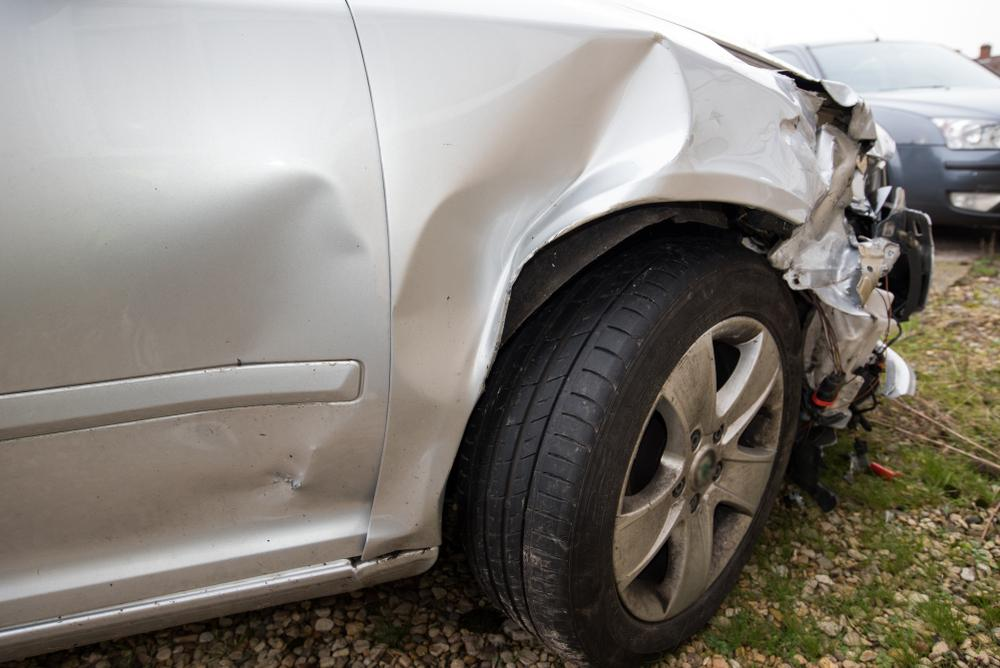dent: (375, 35, 694, 510), (133, 171, 393, 528), (771, 76, 857, 224)
